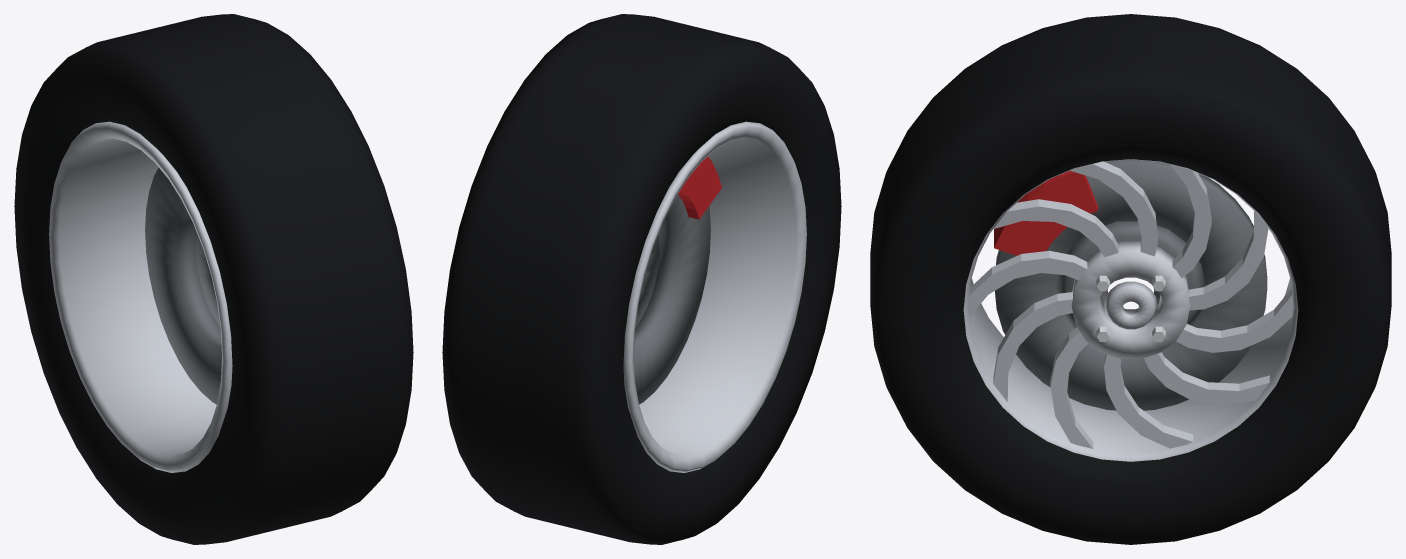
Rendered from w04_turbine_17.glb.
The picture shows the model from 3 angles, left to right: view 1: azimuth 30°, elevation 25°; view 2: azimuth 150°, elevation 25°; view 3: azimuth 270°, elevation 25°; orthographic projection.
Visible parts, largest first — view 1: wheel, brake; view 2: wheel, brake; view 3: wheel, brake.
Boxes of the visible parts, <box> form: wheel: <box>14,14,413,544</box>; brake: <box>145,167,221,404</box>; wheel: <box>442,14,841,544</box>; brake: <box>634,156,721,404</box>; wheel: <box>870,14,1391,544</box>; brake: <box>994,159,1267,410</box>.
Size of what is drawn, in the model's own units: 0.235 by 0.66 by 0.66.
